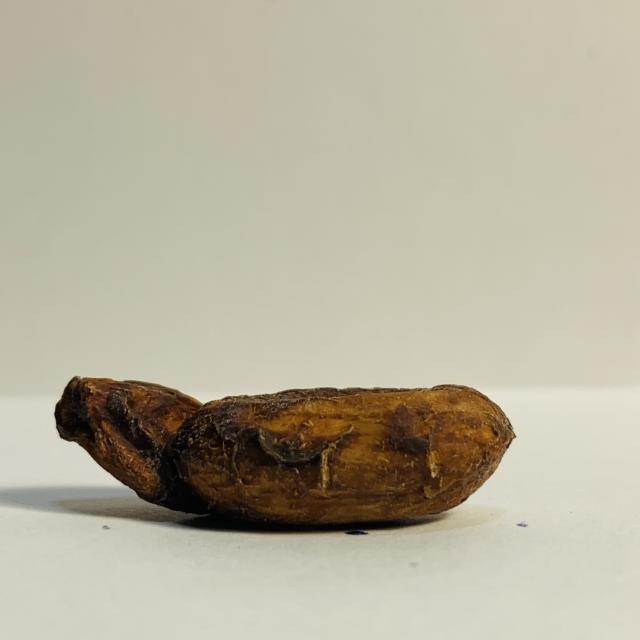Agglomerated_cocoabeans: (0, 328, 563, 568)
